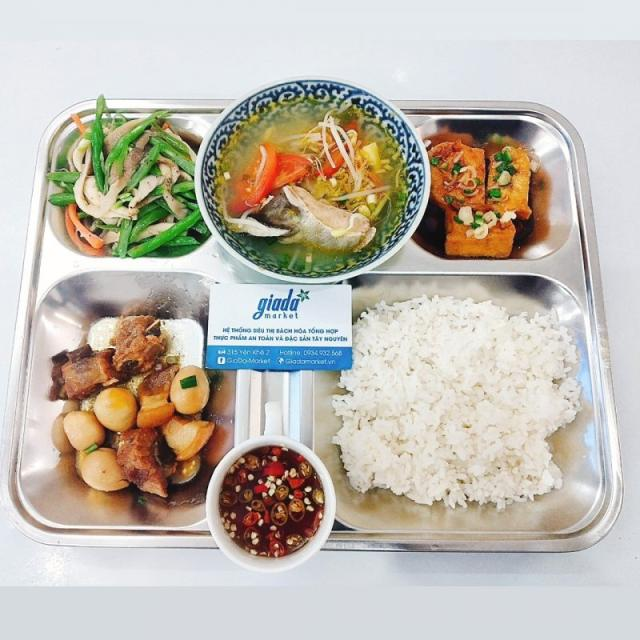canh chua: (201, 82, 428, 278)
com: (332, 296, 580, 508)
dau hu: (423, 130, 534, 257)
kho trung: (52, 315, 214, 497)
nuoc mam: (218, 446, 324, 558)
